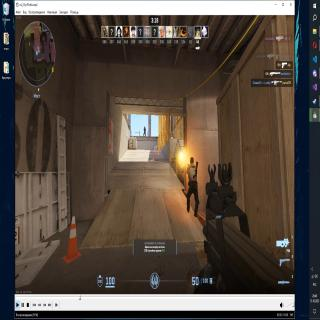CT-Body: (143, 126, 147, 136)
CT-Head: (144, 125, 146, 129)
T-Body: (185, 153, 201, 214)
T-Head: (188, 155, 196, 167)
